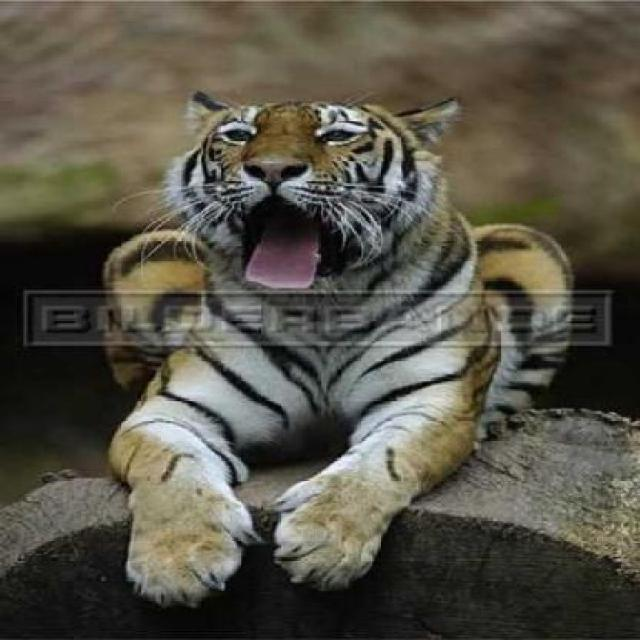tiger: (99, 88, 575, 608)
